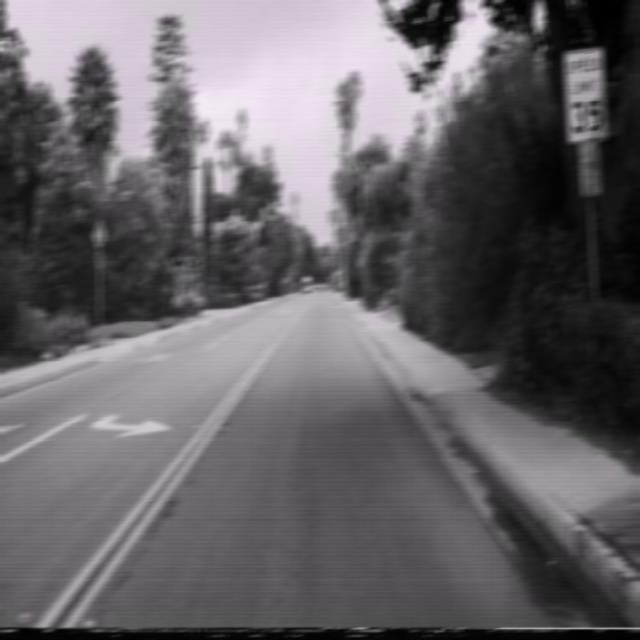speedLimit35: (563, 46, 609, 145)
